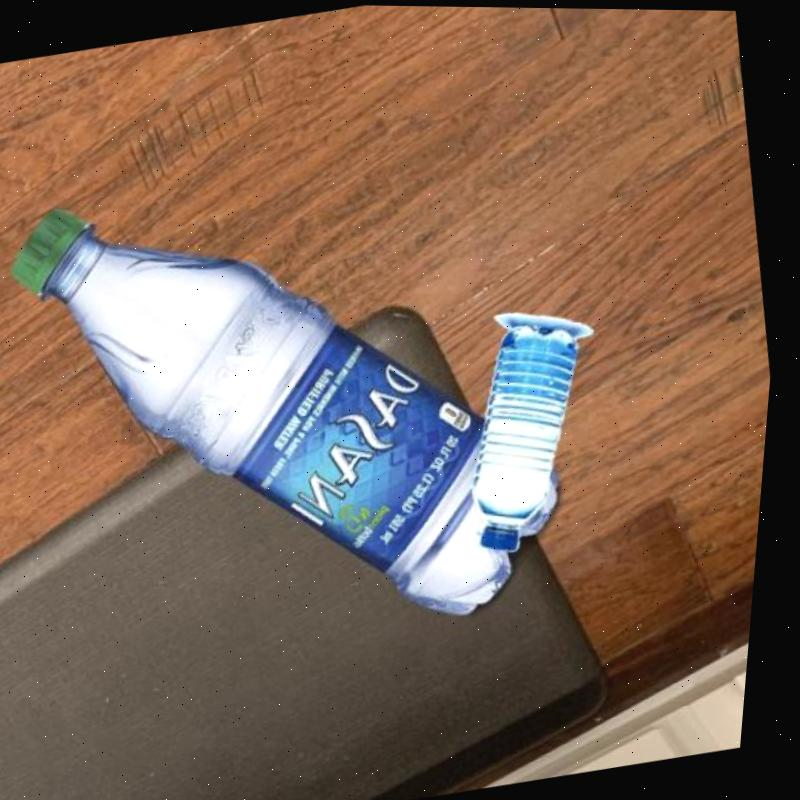botella: (0, 125, 612, 687), (449, 310, 621, 557)
